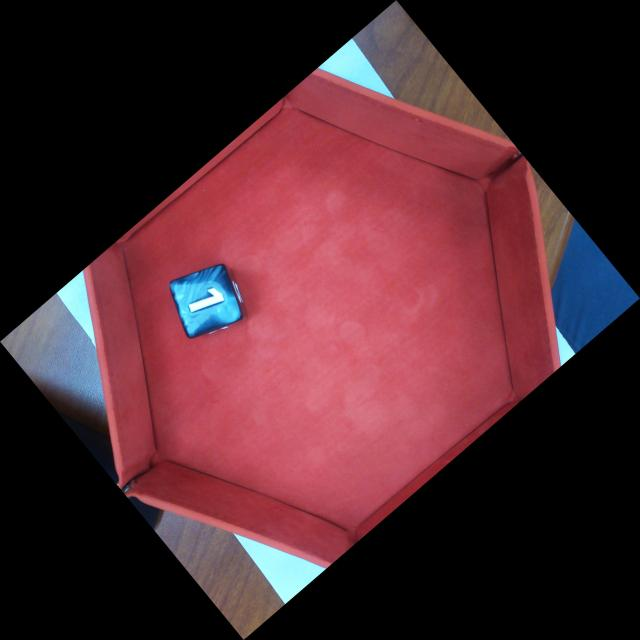dice: (173, 266, 239, 335)
